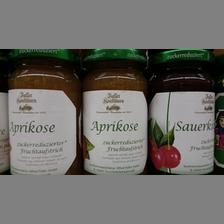Marmelade: (7, 48, 80, 176), (80, 47, 148, 172), (148, 49, 216, 173)
